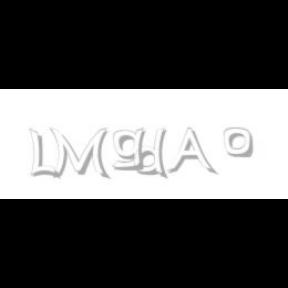A: (167, 128, 215, 176)
L: (29, 128, 57, 180)
M: (50, 128, 109, 180)
d: (134, 128, 172, 180)
g: (112, 128, 150, 171)
o: (224, 128, 252, 158)
